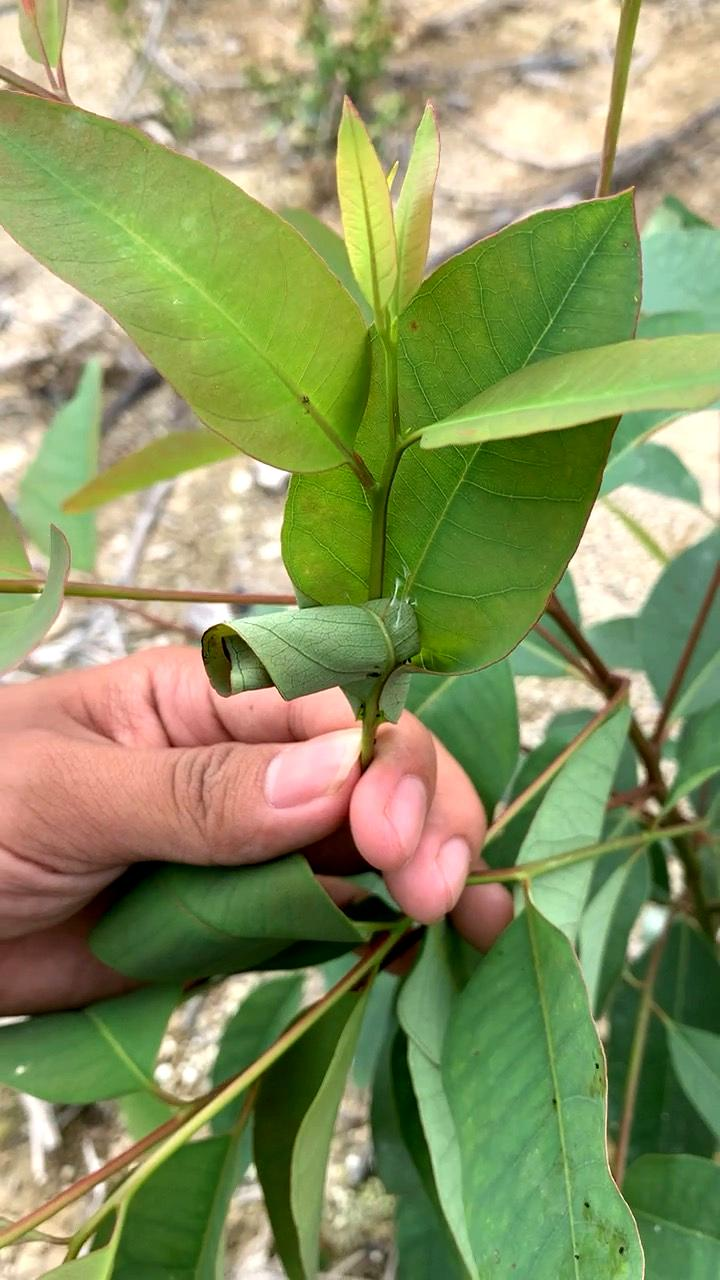Leaf Roller - Leaf: (165, 576, 456, 736)
